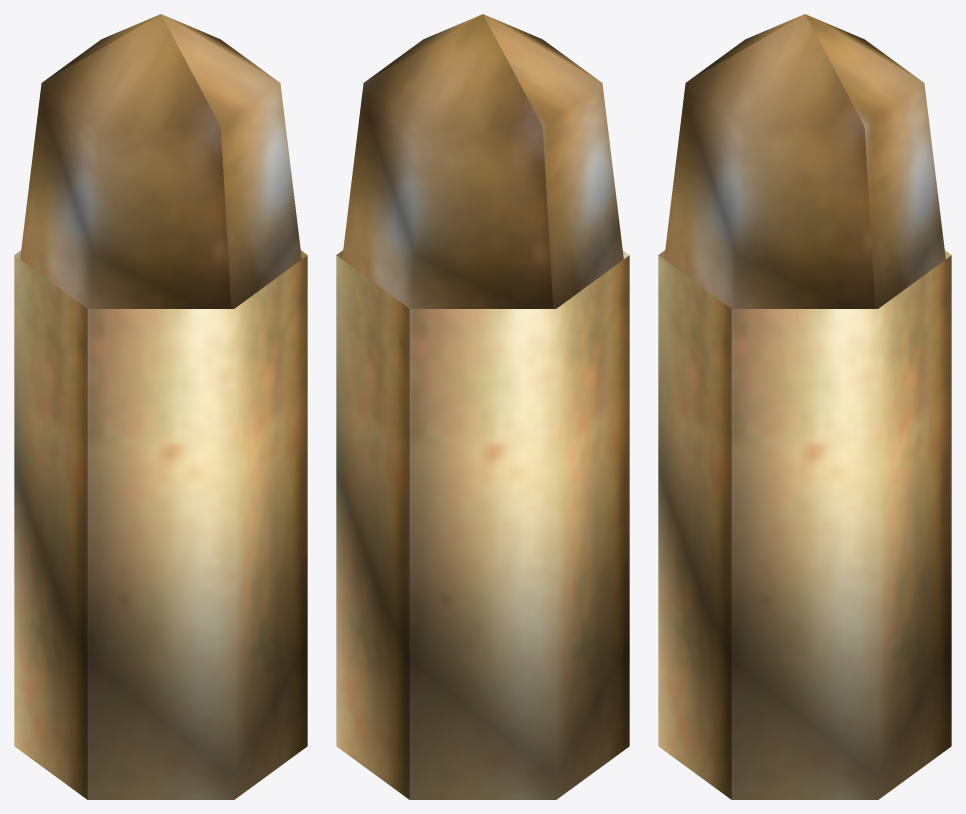
The model's file is PistolAmmo.fbx.
3 renders of one model, left to right at view 1: azimuth 30°, elevation 25°; view 2: azimuth 150°, elevation 25°; view 3: azimuth 270°, elevation 25°, orthographic.
Visible parts, largest first — view 1: 실린더, 실린더.001; view 2: 실린더, 실린더.001; view 3: 실린더, 실린더.001.
Part boxes in pixels (bbox=[...]): 실린더: bbox=[14, 250, 307, 799]; 실린더.001: bbox=[20, 14, 301, 308]; 실린더: bbox=[336, 250, 629, 799]; 실린더.001: bbox=[342, 14, 623, 308]; 실린더: bbox=[658, 250, 951, 799]; 실린더.001: bbox=[664, 14, 945, 308].
Size of the model in its own units: 152 by 483 by 176.
